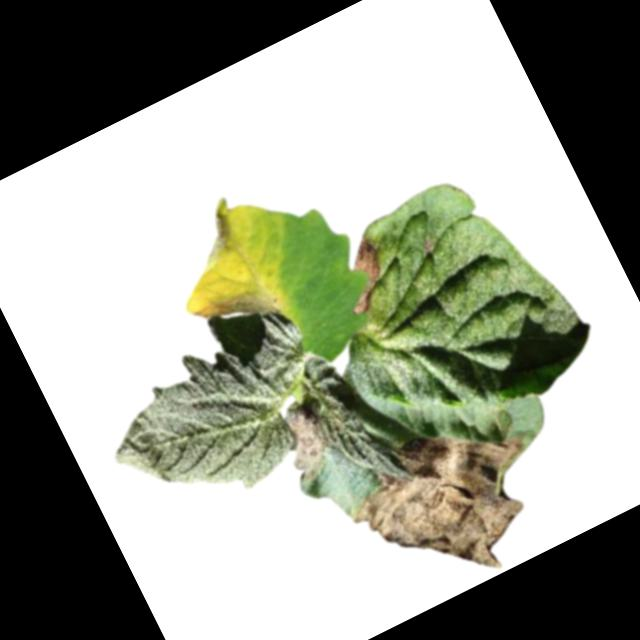Late_blight: (332, 394, 573, 618), (267, 394, 345, 488), (189, 274, 282, 346), (326, 236, 400, 318), (178, 193, 253, 271), (418, 233, 445, 262)
healthy: (74, 284, 353, 538)
